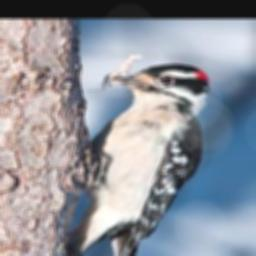Woodpecker: (68, 63, 211, 256)
